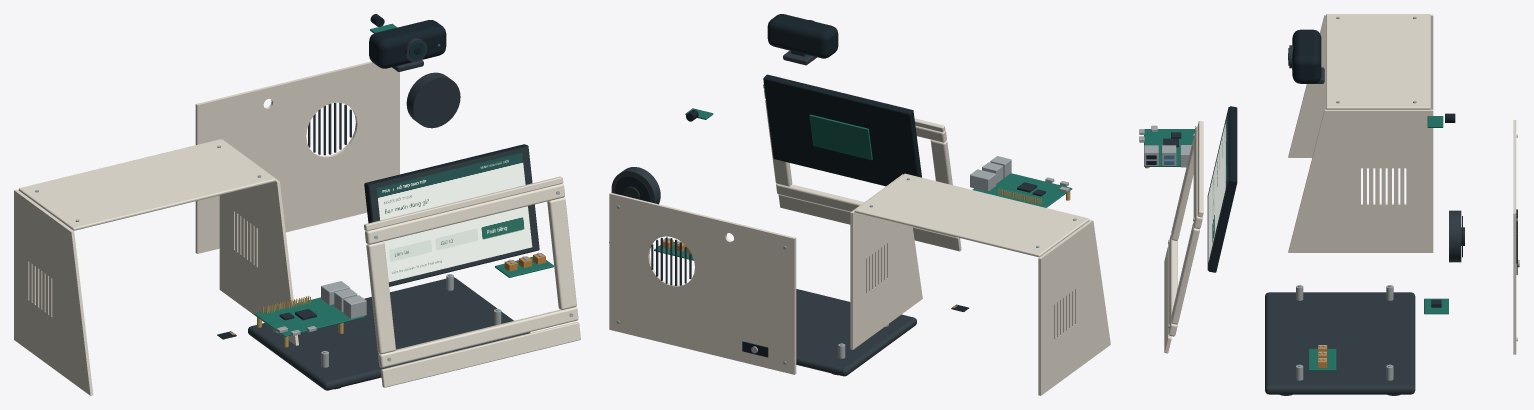
Rendered from pbl6-device-exploded.glb.
3 renders of one model, left to right at view 1: azimuth 30°, elevation 25°; view 2: azimuth 150°, elevation 25°; view 3: azimuth 270°, elevation 25°, orthographic. The views are drawn at different scales.
Parts seen in each view (by area): view 1: rear_service_panel, vented_side_panel (×2), top_panel, base_plate, display_area_estimated, side_bezel (×2), lower_transition, lower_bezel, upper_bezel, Aioneus_form_placeholder, touch_glass, speaker_50mm_placeholder (+3 smaller); view 2: rear_service_panel, vented_side_panel (×2), LCD_module_170x100_approx, top_panel, base_plate, Aioneus_form_placeholder, display_controller_estimate, lower_transition, RaspberryPi4_PCB_85x56, side_bezel (×2), lower_bezel, speaker_50mm_placeholder (+2 smaller); view 3: vented_side_panel (×2), base_plate, top_panel, side_bezel (×2), Aioneus_form_placeholder, LCD_module_170x100_approx, display_area_estimated, rear_service_panel, RaspberryPi4_PCB_85x56, lower_bezel, speaker_50mm_placeholder, upper_transition (+5 smaller).
Part boxes in pixels (<box>): rear_service_panel: <box>195,61,399,253</box>; vented_side_panel (×2): <box>14,139,298,395</box>; top_panel: <box>18,139,275,230</box>; base_plate: <box>248,277,530,390</box>; display_area_estimated: <box>376,152,532,281</box>; side_bezel (×2): <box>366,197,576,354</box>; lower_transition: <box>381,322,580,387</box>; lower_bezel: <box>378,307,578,367</box>; upper_bezel: <box>365,183,564,244</box>; Aioneus_form_placeholder: <box>369,20,446,68</box>; touch_glass: <box>369,146,539,286</box>; speaker_50mm_placeholder: <box>406,72,460,128</box>; rear_service_panel: <box>609,192,796,374</box>; vented_side_panel (×2): <box>850,174,1110,395</box>; LCD_module_170x100_approx: <box>763,74,921,186</box>; top_panel: <box>854,173,1089,257</box>; base_plate: <box>796,289,916,376</box>; Aioneus_form_placeholder: <box>767,14,838,58</box>; display_controller_estimate: <box>809,114,872,160</box>; lower_transition: <box>778,194,961,251</box>; RaspberryPi4_PCB_85x56: <box>972,173,1072,207</box>; side_bezel (×2): <box>765,99,952,186</box>; lower_bezel: <box>776,184,955,237</box>; speaker_50mm_placeholder: <box>611,167,660,204</box>; vented_side_panel (×2): <box>1288,14,1433,252</box>; base_plate: <box>1265,292,1415,394</box>; top_panel: <box>1326,14,1430,109</box>; side_bezel (×2): <box>1171,139,1199,324</box>; Aioneus_form_placeholder: <box>1292,29,1321,83</box>; LCD_module_170x100_approx: <box>1208,106,1237,272</box>; display_area_estimated: <box>1208,114,1227,262</box>; rear_service_panel: <box>1513,120,1516,354</box>; RaspberryPi4_PCB_85x56: <box>1144,129,1194,166</box>; lower_bezel: <box>1168,235,1177,336</box>; speaker_50mm_placeholder: <box>1449,210,1461,262</box>; upper_transition: <box>1197,121,1203,217</box>.
Bounding box in the file's own units: 0.501 × 0.3298 × 0.3665.
12 materials, 1 textured.
